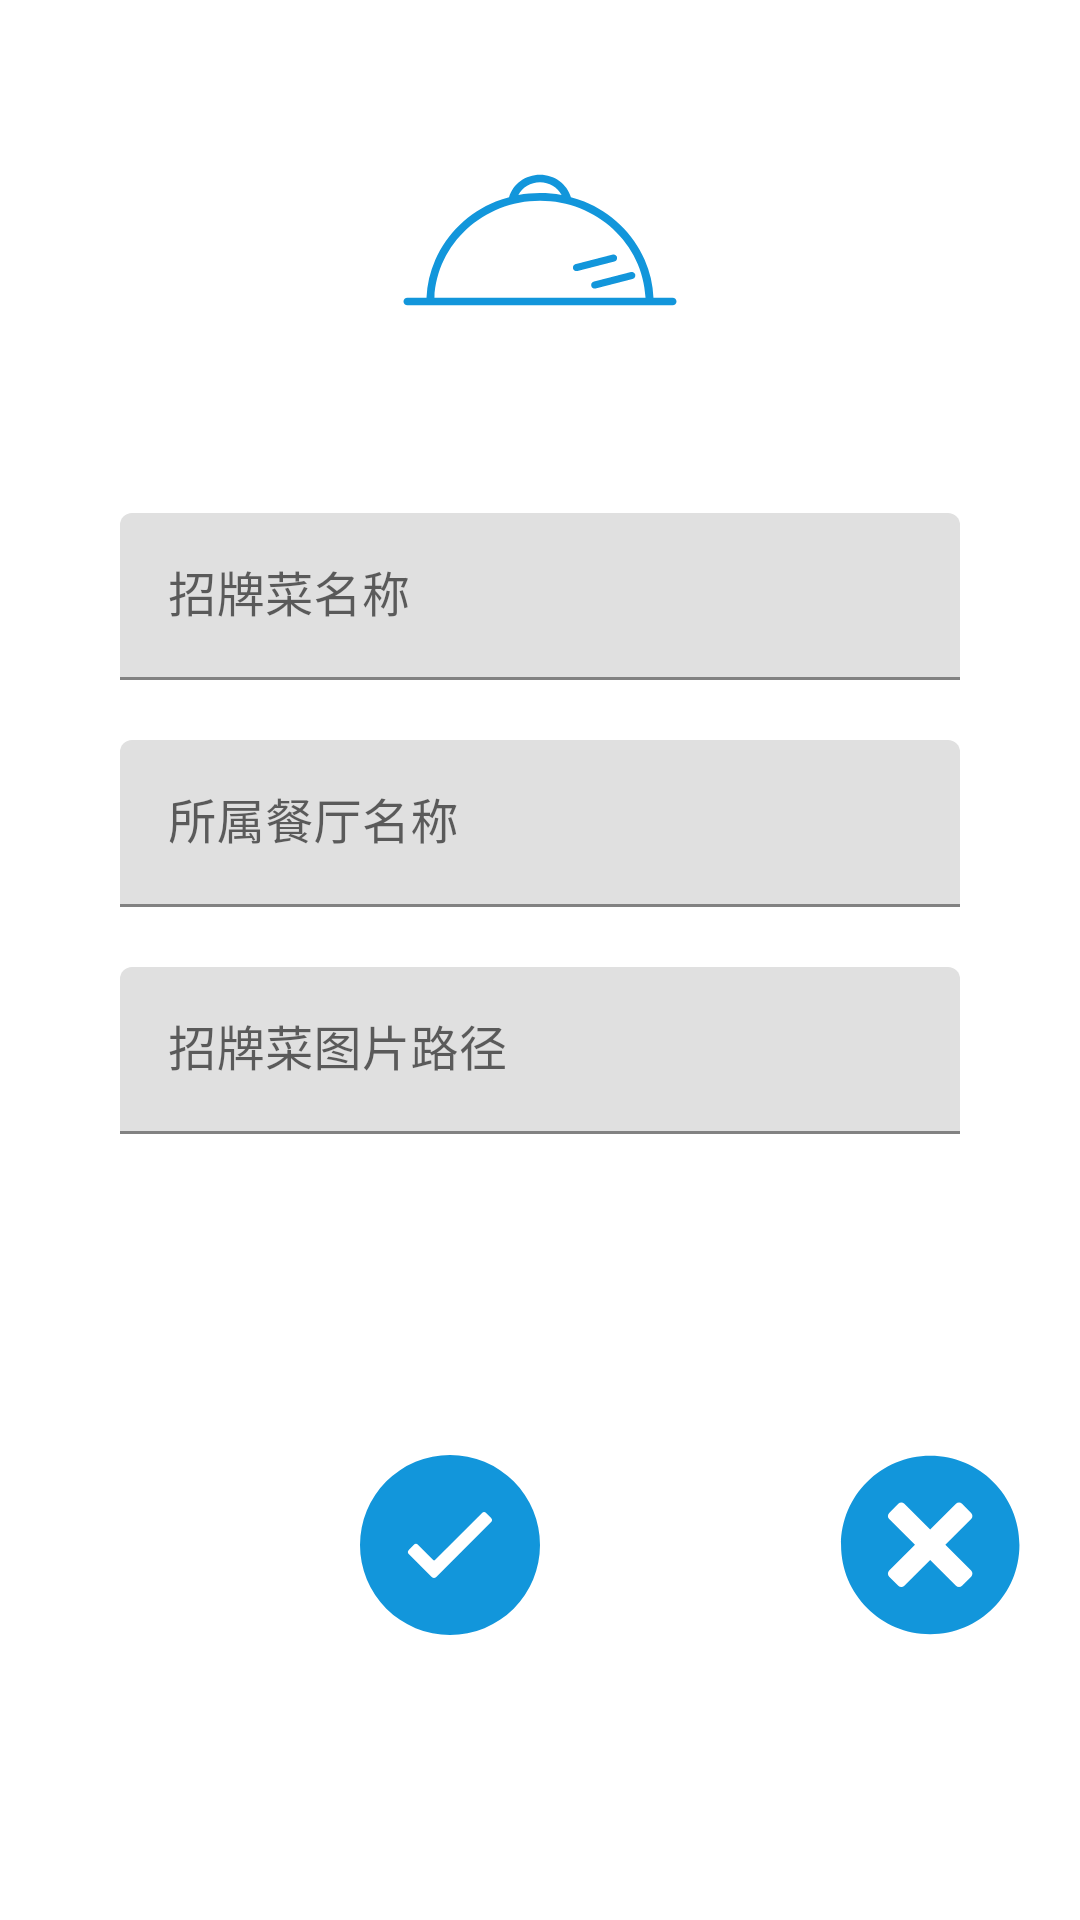

Locate icon controls on the screen. Image size 1080px×1920px, boxes as (x1, y1, x2, y2).
cancel: (841, 1455, 1020, 1635)
confirm: (360, 1455, 540, 1635)
food title: (403, 174, 677, 306)
